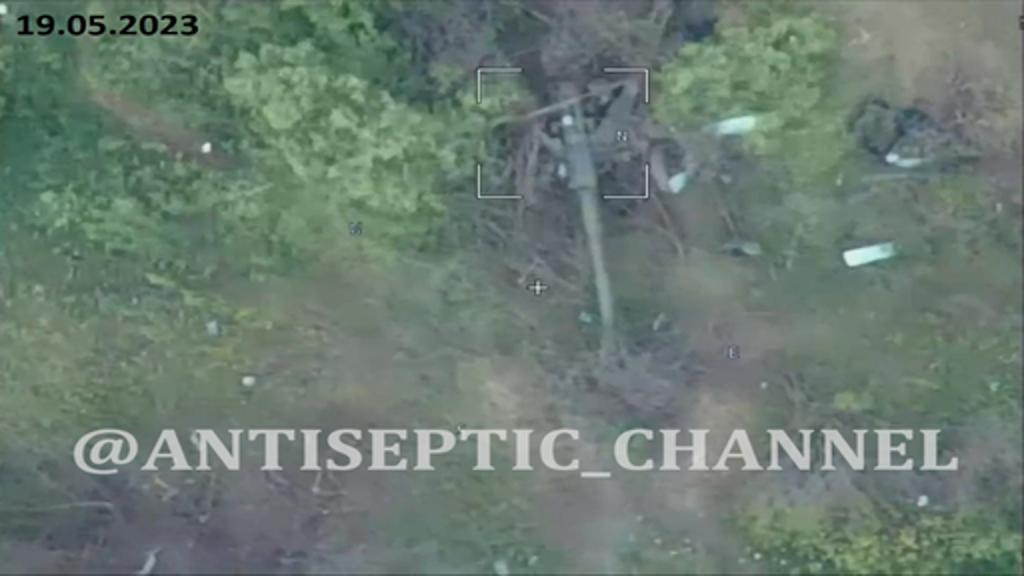ART: (472, 6, 676, 362)
